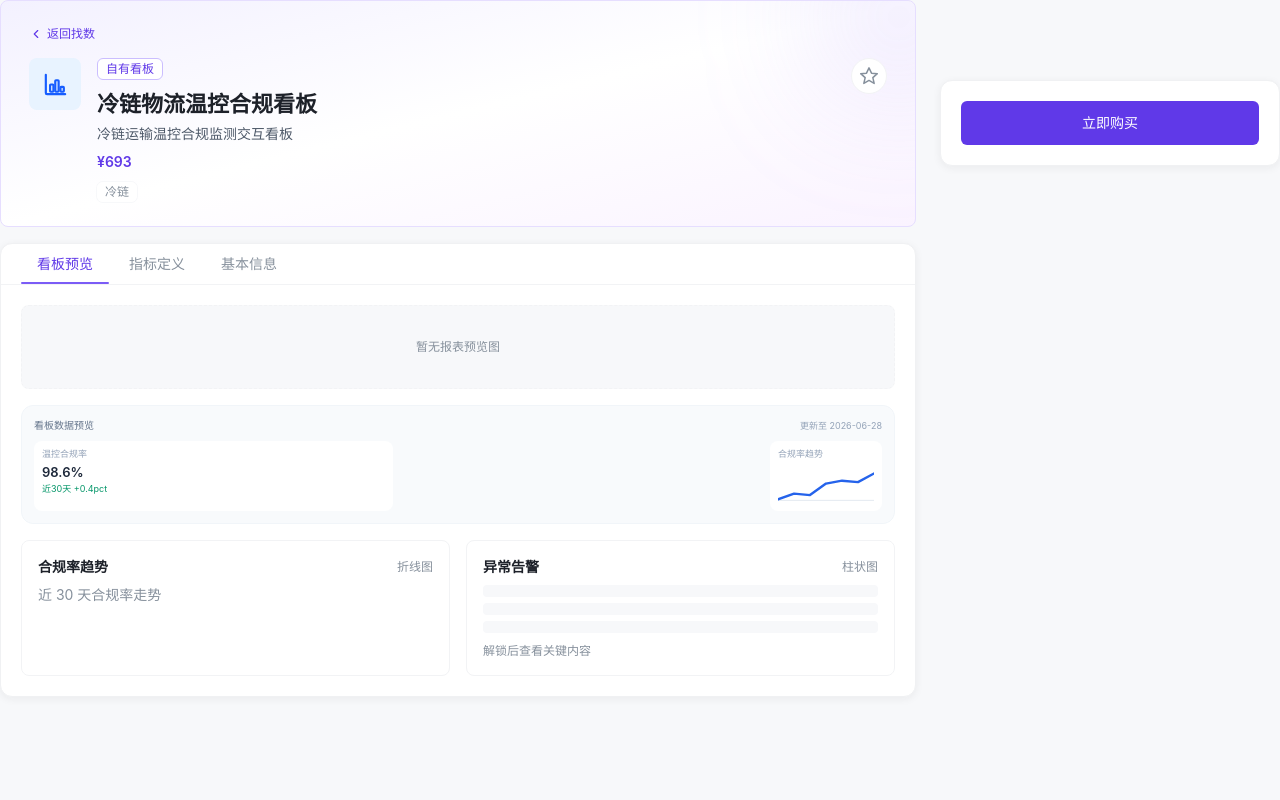
Test: PortalProductDetail V1.0.2 trade actions › keeps one paid price, shared-rights context and the primary action
Click the button "基本信息".
click(249, 264)  # box [205,244,293,284]
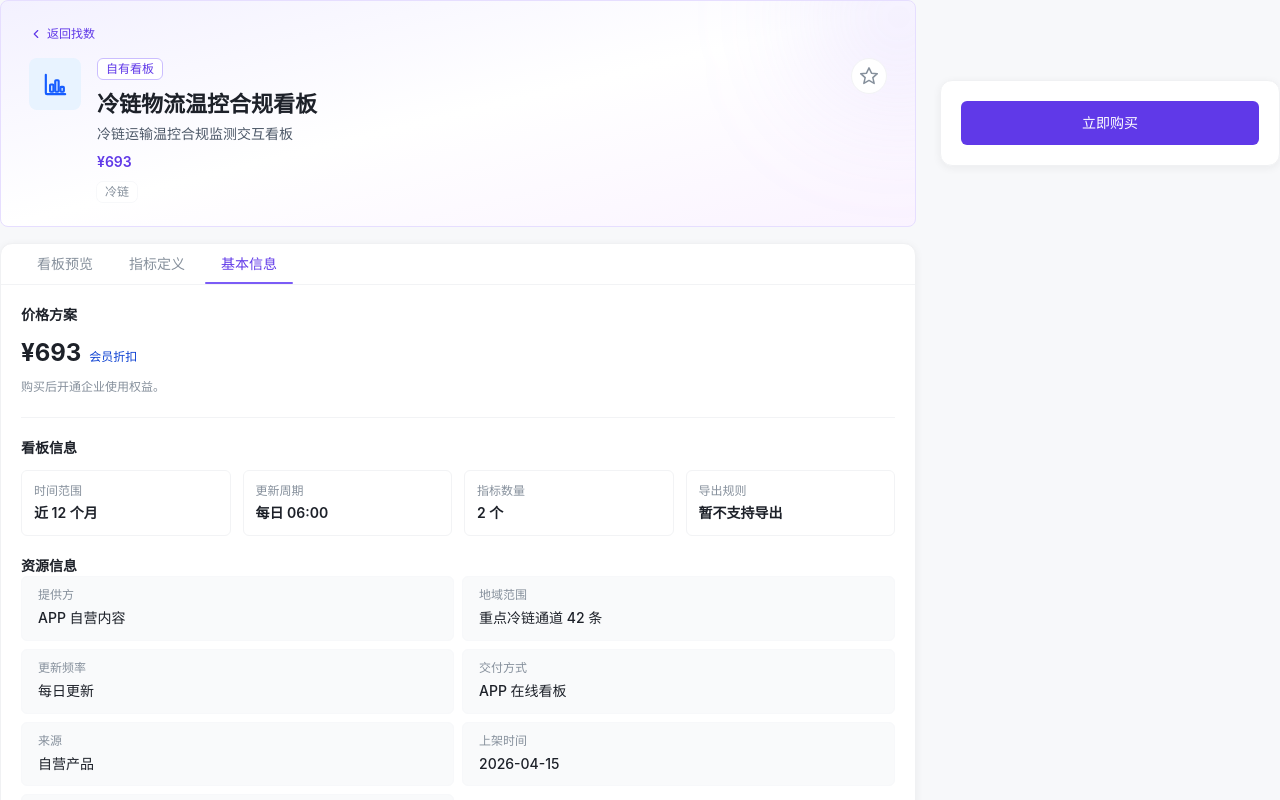
Check: the button with test id "product-primary-action" reads "立即购买", box [961,101,1259,145]
Check: the element with test id "detail-pricing" shows "¥", box [21,305,895,418]
Check: the element with test id "detail-pricing" shows "企业使用权益", box [21,379,165,394]
